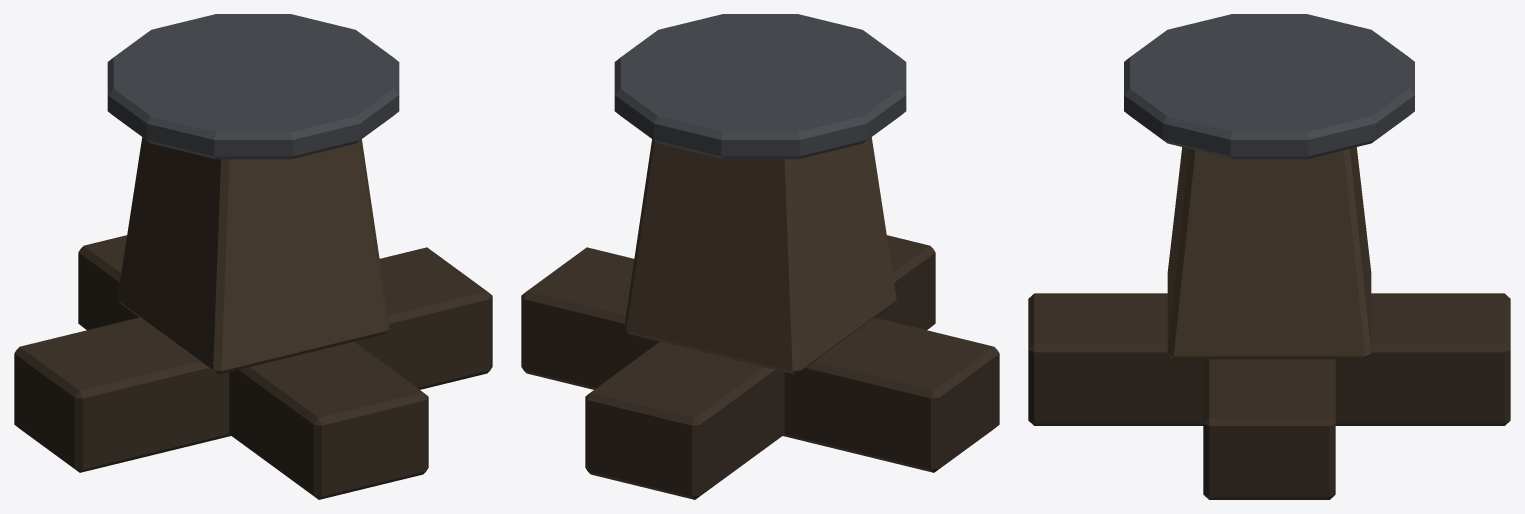
The model's file is matstand.glb.
3 views of the same model, side by side, from view 1: azimuth 30°, elevation 25°; view 2: azimuth 150°, elevation 25°; view 3: azimuth 270°, elevation 25° (orthographic).
Visible parts, largest first — view 1: matstand; view 2: matstand; view 3: matstand.
Boxes of the visible parts, x1,y1,x2,y2 form: matstand: (14,14,492,499); matstand: (521,14,999,499); matstand: (1028,14,1510,499).
Size of the model in its own units: 0.16 by 0.12 by 0.16.
